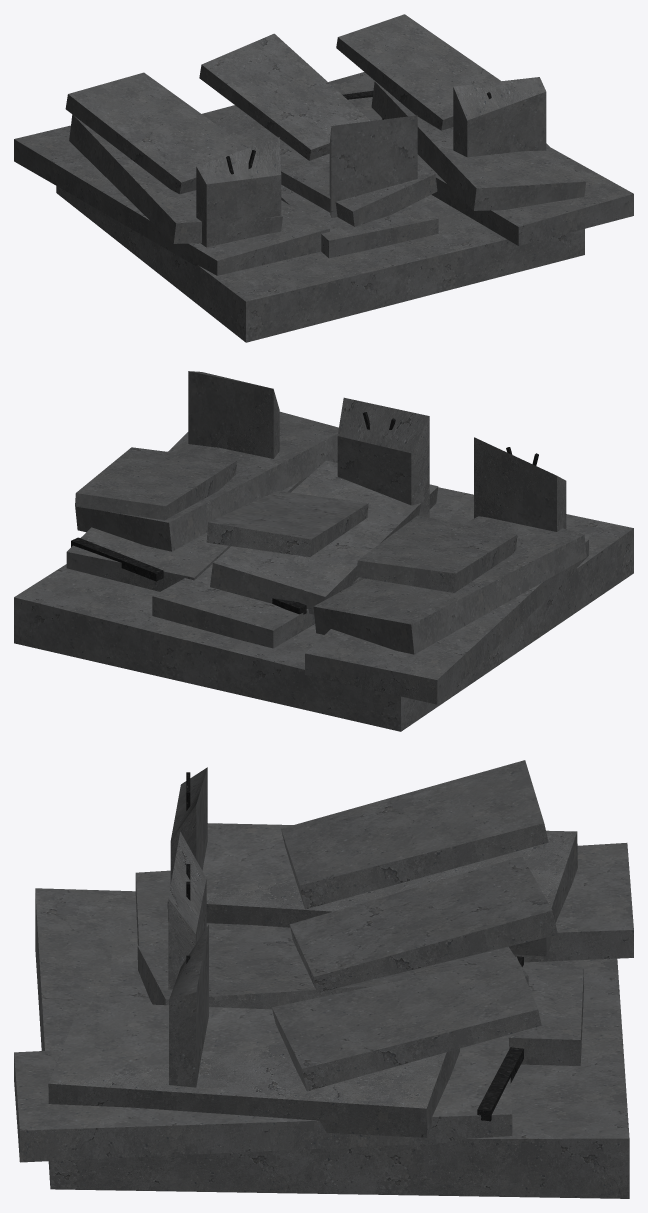
The model's file is city-office.glb.
3 views of the same model, one above another, from view 1: azimuth 30°, elevation 25°; view 2: azimuth 150°, elevation 25°; view 3: azimuth 270°, elevation 25° (orthographic). The views are drawn at different scales.
Parts seen in each view (by area): view 1: city-office-concrete; view 2: city-office-concrete, city-office-steel; view 3: city-office-concrete, city-office-steel.
Boxes of the visible parts, x1,y1,x2,y2 form: city-office-concrete: (14, 14, 633, 342); city-office-concrete: (14, 371, 633, 731); city-office-steel: (71, 377, 538, 614); city-office-concrete: (14, 760, 633, 1198); city-office-steel: (186, 772, 523, 1121).
Size of the model in its own units: 7.32 by 2.51 by 6.67.
Materials: 2 (2 with a texture image).
